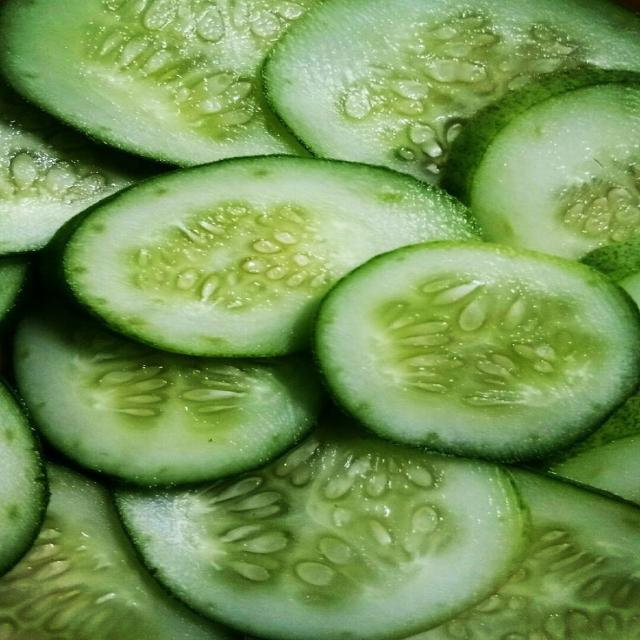cucumber sliced: (118, 419, 526, 639), (59, 156, 473, 356), (316, 242, 639, 460), (265, 0, 639, 180), (14, 310, 323, 484), (0, 0, 315, 165), (0, 465, 235, 639), (411, 472, 639, 639), (444, 70, 639, 257), (0, 84, 142, 253), (548, 393, 639, 504), (0, 383, 47, 575), (582, 234, 639, 305), (0, 257, 28, 323)
